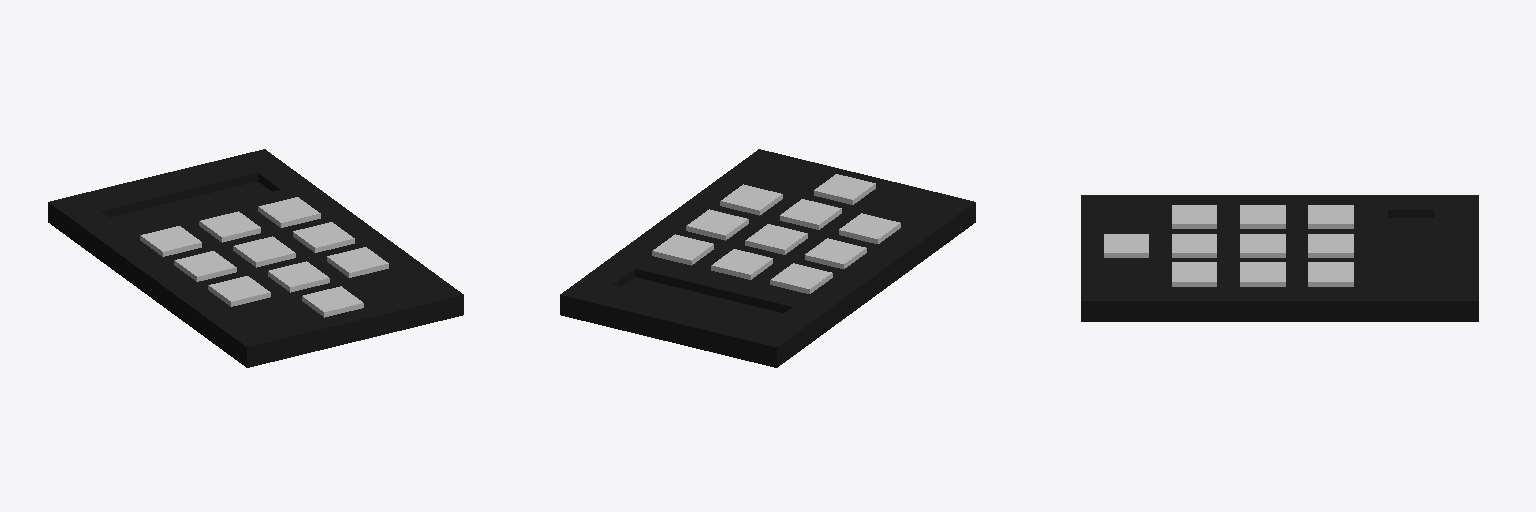
Rendered from keypad.obj.
3 views of the same model, side by side, from view 1: azimuth 30°, elevation 25°; view 2: azimuth 150°, elevation 25°; view 3: azimuth 270°, elevation 25° (orthographic).
Visible parts, largest first — view 1: Cube, Cube.001; view 2: Cube, Cube.001; view 3: Cube, Cube.001.
Boxes of the visible parts, x1,y1,x2,y2 form: Cube: [48, 149, 463, 367]; Cube.001: [140, 197, 388, 317]; Cube: [560, 149, 975, 367]; Cube.001: [652, 174, 900, 293]; Cube: [1081, 195, 1478, 321]; Cube.001: [1104, 205, 1353, 286].
Bounding box in the file's own units: 11 × 1.25 × 17.5.